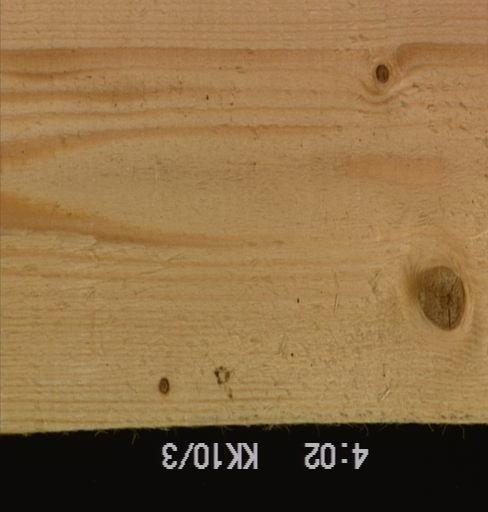dry_knot: (156, 375, 171, 397)
sound_knot: (413, 263, 468, 333), (373, 62, 392, 87)
